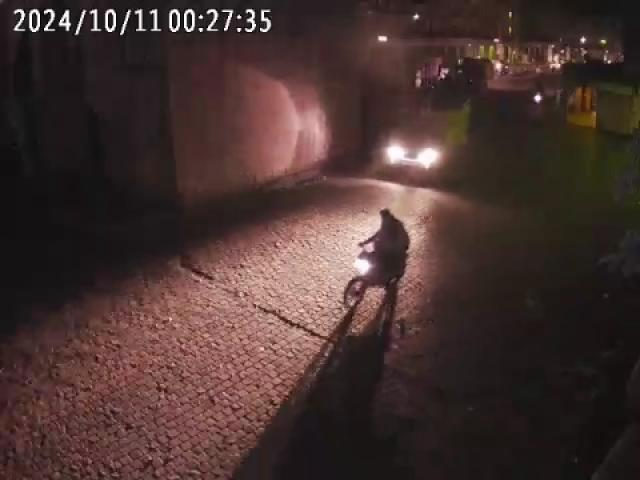motorbike-rider: (333, 198, 417, 316)
